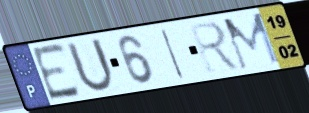6: (117, 33, 156, 86)
E: (29, 40, 84, 103)
I: (159, 26, 187, 82)
M: (220, 10, 282, 72)
R: (186, 19, 244, 75)
U: (64, 36, 117, 95)
